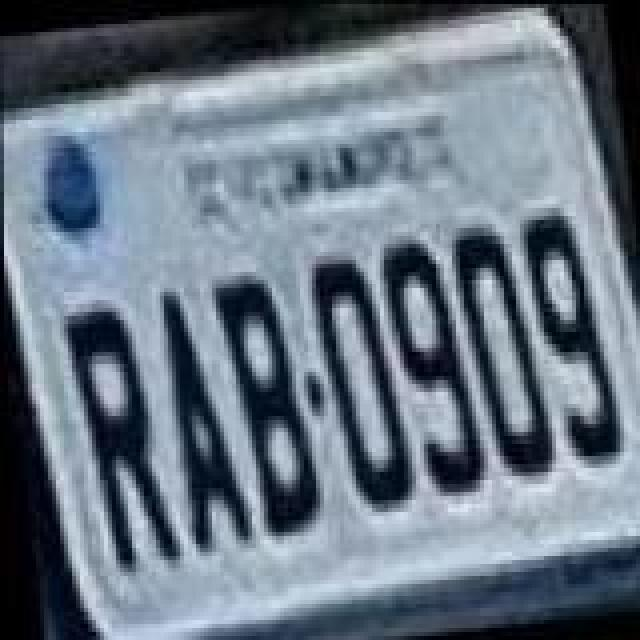9: (374, 234, 482, 498), (518, 210, 626, 462)
A: (154, 282, 254, 554)
B: (210, 270, 326, 542)
O: (304, 254, 416, 510), (444, 222, 556, 478)
R: (62, 300, 182, 572)
